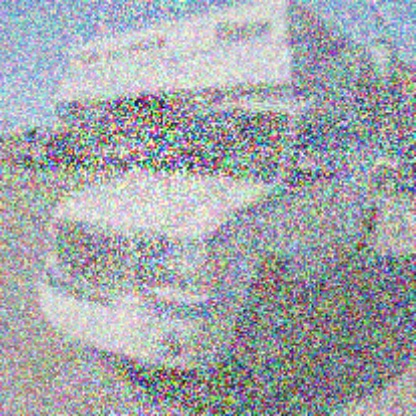Vehicle: (31, 98, 381, 405)
